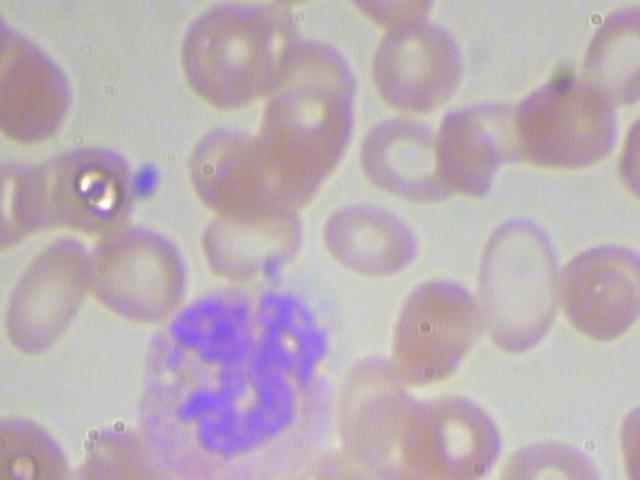RBC: (470, 214, 560, 363), (176, 2, 291, 113), (1, 232, 97, 364), (559, 212, 640, 358), (513, 75, 625, 177), (380, 273, 476, 389), (88, 217, 192, 324), (354, 116, 467, 204), (396, 392, 509, 480), (370, 17, 460, 123), (202, 194, 304, 283), (316, 202, 426, 276)
